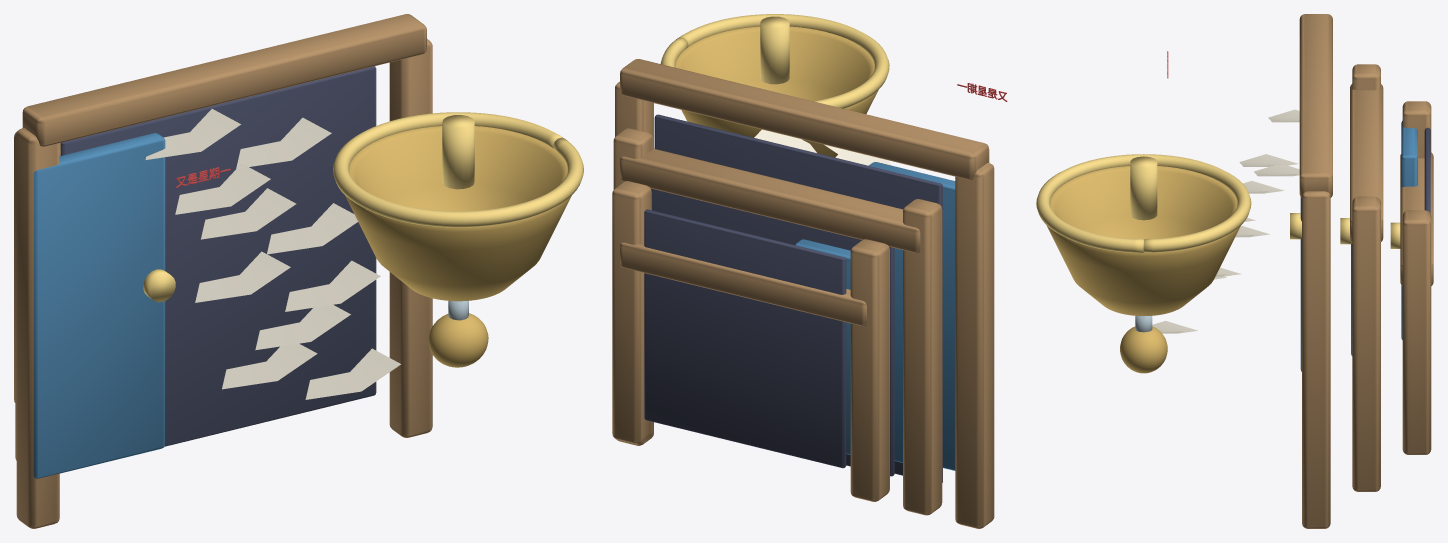
Rendered from S07_School_Bell_Time_Wormhole.glb.
3 renders of one model, left to right at view 1: azimuth 30°, elevation 25°; view 2: azimuth 150°, elevation 25°; view 3: azimuth 270°, elevation 25°, orthographic. The views are drawn at different scales.
Parts seen in each view (by area): view 1: S07_CORRIDOR_DOORS_ACTOR | Real deep hallway unlit 3D door (, S07_CORRIDOR_DOORS_ACTOR | Old classroom double doors painte, S07_CORRIDOR_DOORS_ACTOR | Real campus oak school corridor d, S07 actual forged heavy real copper school recess hand bell, S07_TIMETABLE_ACTOR | Actual white timetable pages in folded, S07_BELL_ACTOR | Polished raised school bell lip bright gold, S07 literal bronze clapper ball visible below bell, S07_CORRIDOR_DOORS_ACTOR | Polished raised school bell lip b; view 2: S07_CORRIDOR_DOORS_ACTOR | Real campus oak school corridor d, S07_CORRIDOR_DOORS_ACTOR | Real deep hallway unlit 3D door (, S07 actual forged heavy real copper school recess hand bell, S07_CORRIDOR_DOORS_ACTOR | Old classroom double doors painte, S07_BELL_ACTOR | Polished raised school bell lip bright gold, S07_TIMETABLE_ACTOR | Actual white timetable pages in folded; view 3: S07_CORRIDOR_DOORS_ACTOR | Real campus oak school corridor d, S07 actual forged heavy real copper school recess hand bell, S07_BELL_ACTOR | Polished raised school bell lip bright gold, S07_TIMETABLE_ACTOR | Actual white timetable pages in folded, S07 literal bronze clapper ball visible below bell, S07_CORRIDOR_DOORS_ACTOR | Old classroom double doors painte, S07_CORRIDOR_DOORS_ACTOR | Polished raised school bell lip b, S07_CORRIDOR_DOORS_ACTOR | Real deep hallway unlit 3D door (.
Part boxes in pixels (x1,y1,x2,y2): S07_CORRIDOR_DOORS_ACTOR | Real deep hallway unlit 3D door (: (60,66,376,446); S07_CORRIDOR_DOORS_ACTOR | Old classroom double doors painte: (33,133,165,478); S07_CORRIDOR_DOORS_ACTOR | Real campus oak school corridor d: (14,14,432,528); S07 actual forged heavy real copper school recess hand bell: (345,126,571,301); S07_TIMETABLE_ACTOR | Actual white timetable pages in folded: (145,109,400,399); S07_BELL_ACTOR | Polished raised school bell lip bright gold: (333,112,583,227); S07 literal bronze clapper ball visible below bell: (428,313,488,367); S07_CORRIDOR_DOORS_ACTOR | Polished raised school bell lip b: (143,269,175,302); S07_CORRIDOR_DOORS_ACTOR | Real campus oak school corridor d: (612,59,994,528); S07_CORRIDOR_DOORS_ACTOR | Real deep hallway unlit 3D door (: (644,114,942,482); S07 actual forged heavy real copper school recess hand bell: (675,26,878,157); S07_CORRIDOR_DOORS_ACTOR | Old classroom double doors painte: (795,162,955,470); S07_BELL_ACTOR | Polished raised school bell lip bright gold: (660,14,889,108); S07_TIMETABLE_ACTOR | Actual white timetable pages in folded: (754,129,891,165); S07_CORRIDOR_DOORS_ACTOR | Real campus oak school corridor d: (1299,14,1433,528); S07 actual forged heavy real copper school recess hand bell: (1046,166,1240,316); S07_BELL_ACTOR | Polished raised school bell lip bright gold: (1036,154,1251,252); S07_TIMETABLE_ACTOR | Actual white timetable pages in folded: (1152,109,1299,333); S07 literal bronze clapper ball visible below bell: (1120,326,1167,373); S07_CORRIDOR_DOORS_ACTOR | Old classroom double doors painte: (1300,121,1417,371); S07_CORRIDOR_DOORS_ACTOR | Polished raised school bell lip b: (1290,213,1400,248); S07_CORRIDOR_DOORS_ACTOR | Real deep hallway unlit 3D door (: (1424,127,1430,213).
Bounding box in the file's own units: 1.83 × 1.62 × 1.66.
